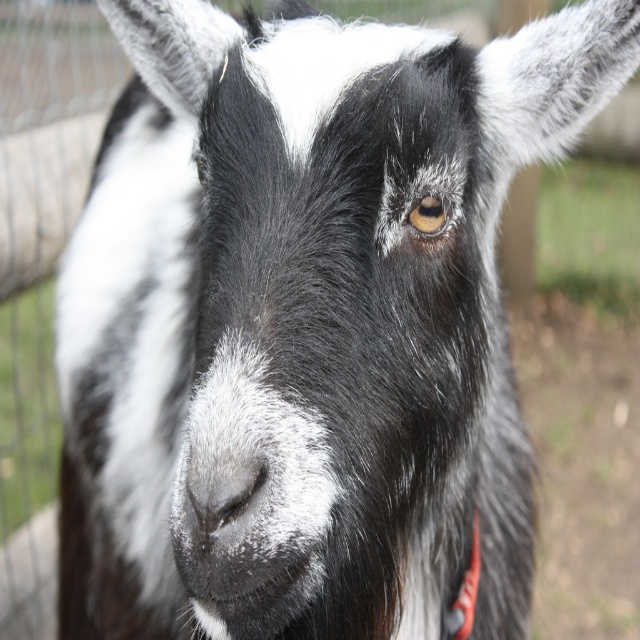Goat: (21, 0, 631, 640)
